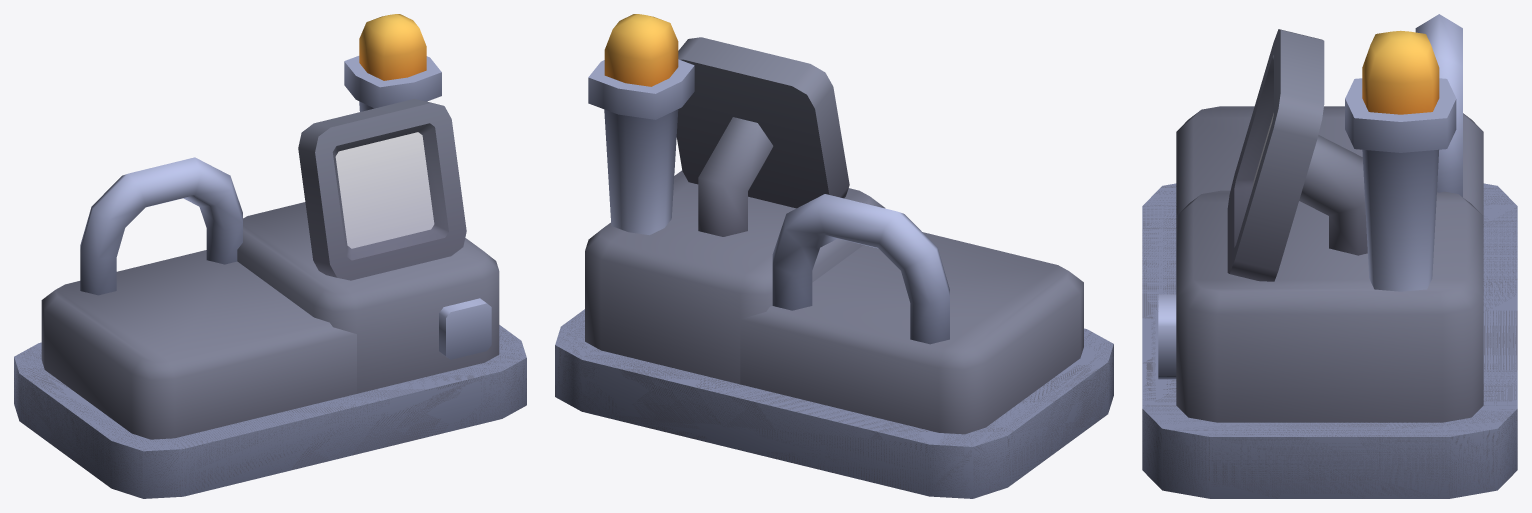
File: cash-register-self.obj
The picture shows the model from 3 angles, left to right: view 1: azimuth 30°, elevation 25°; view 2: azimuth 150°, elevation 25°; view 3: azimuth 270°, elevation 25°; orthographic projection. The views are drawn at different scales.
Visible parts, largest first — view 1: cash-register-self; view 2: cash-register-self; view 3: cash-register-self.
Boxes of the visible parts, bbox=[...] form: cash-register-self: bbox=[14, 14, 526, 498]; cash-register-self: bbox=[555, 14, 1113, 498]; cash-register-self: bbox=[1142, 14, 1517, 498].
Bounding box in the file's own units: 0.9 × 0.6928 × 0.55.
Materials: 1 (1 with a texture image).
